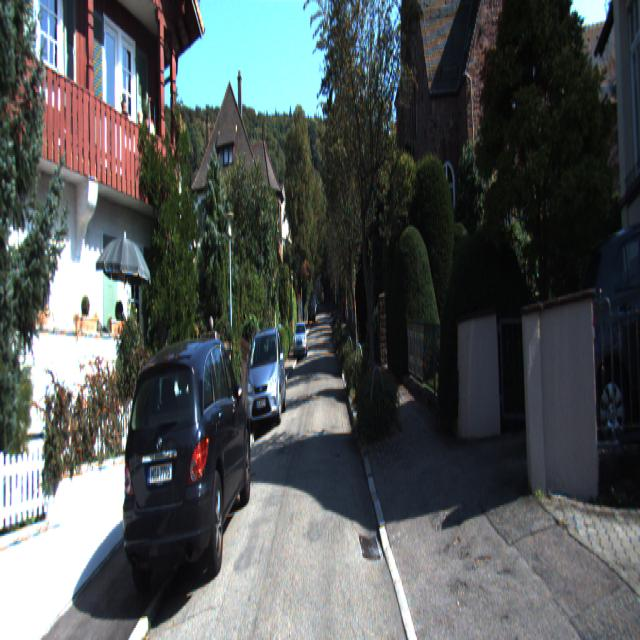Car: (121, 318, 253, 612), (590, 195, 640, 472), (245, 324, 287, 432), (293, 323, 308, 362)
DontCare: (306, 293, 320, 322)
